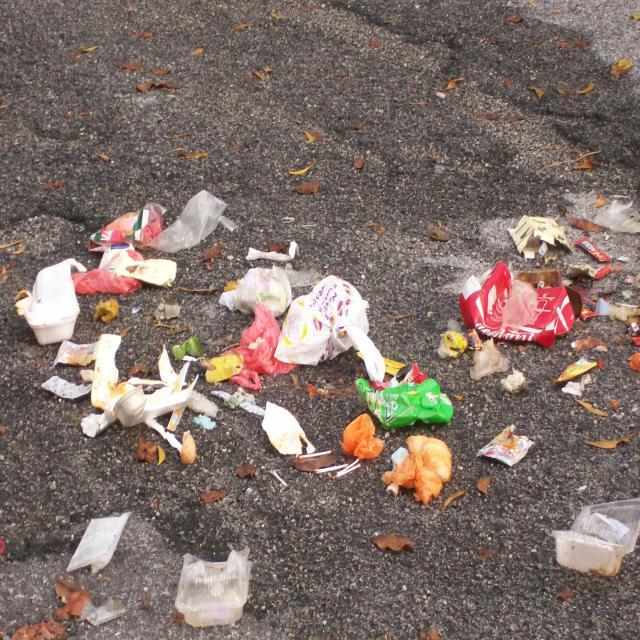trash: (11, 175, 633, 509), (169, 538, 257, 638), (545, 494, 640, 581), (60, 498, 138, 588)
